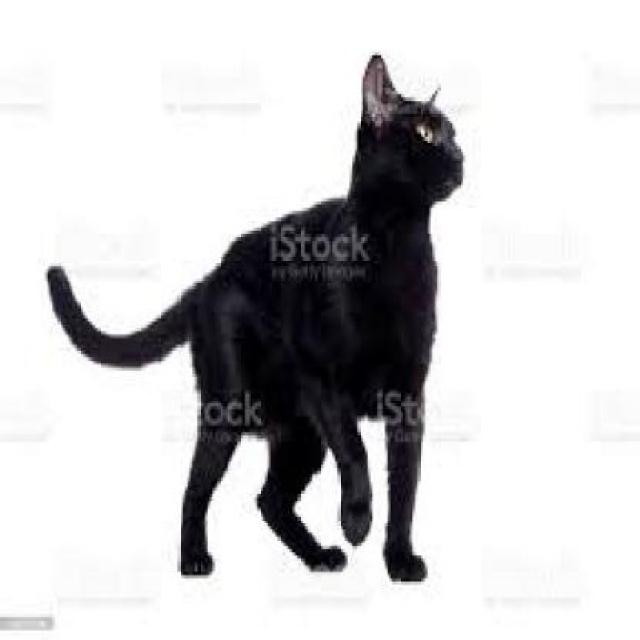animals: (42, 39, 473, 582)
